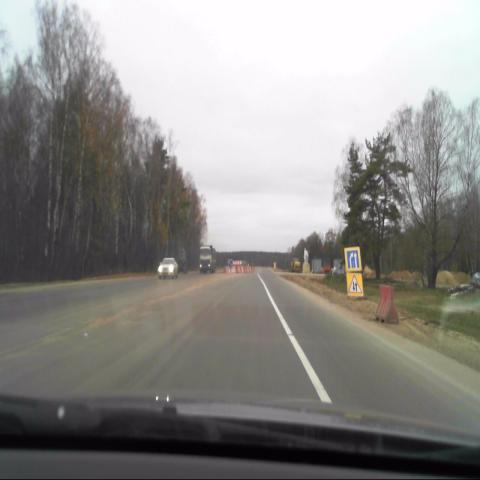1_21: (345, 273, 364, 299)
